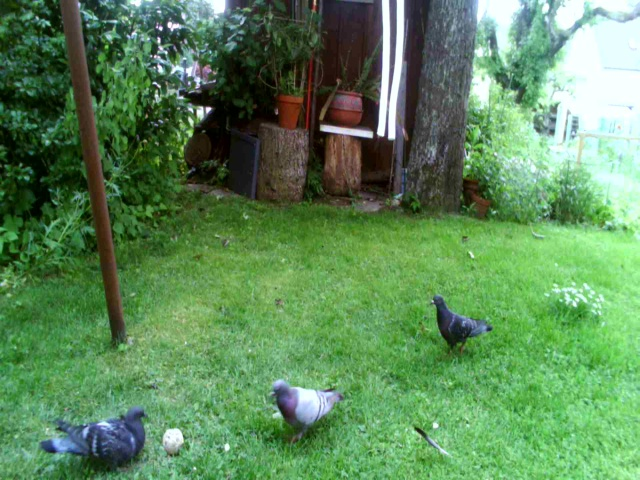Pigeon: (40, 401, 164, 471), (420, 287, 499, 358), (265, 376, 341, 449)
